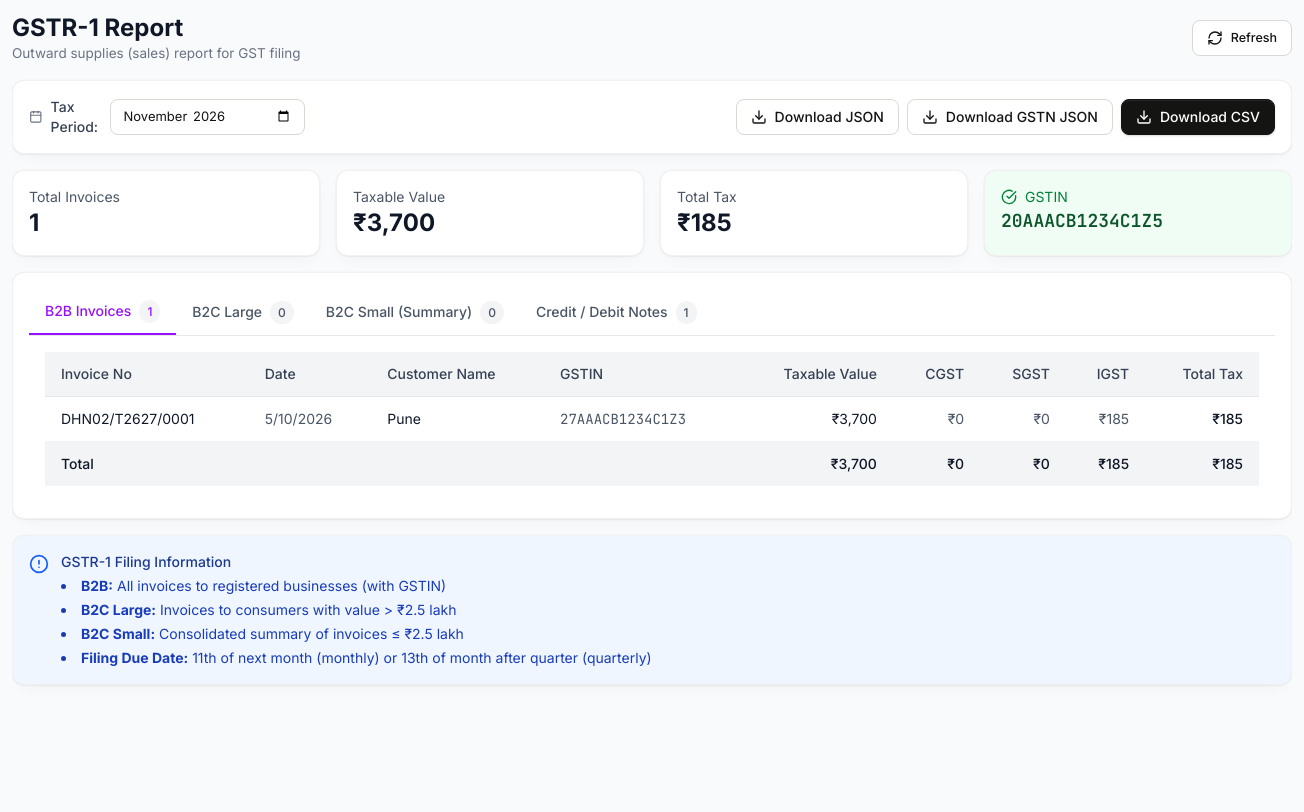
GSTR-1 report › lists the transfer invoice and the credit note under their full numbers
Expected: the text "DHN02/T2627/0001" is shown, [45, 396, 249, 441]
Click the button "Credit / Debit Notes1": (616, 312) [520, 289, 713, 335]
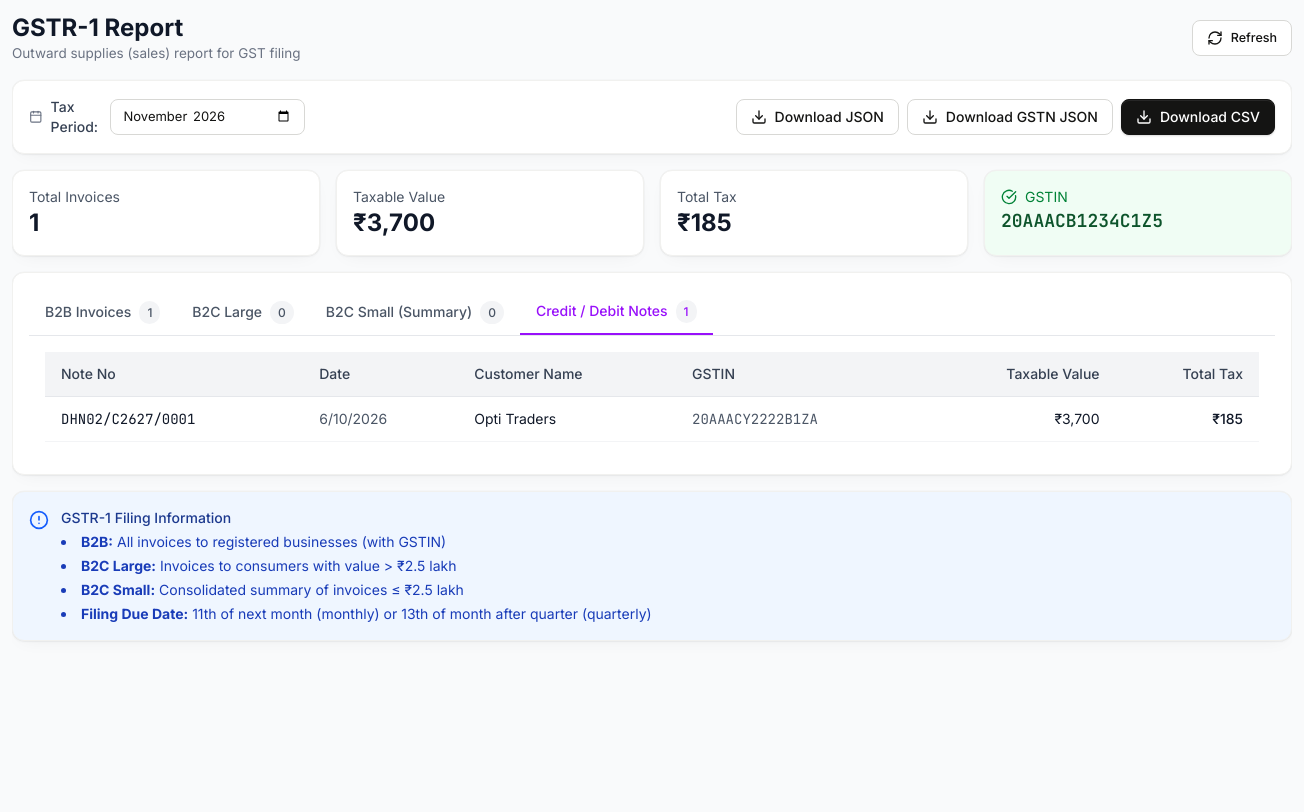
Expected: the text "DHN02/C2627/0001" is shown, [45, 396, 303, 441]
